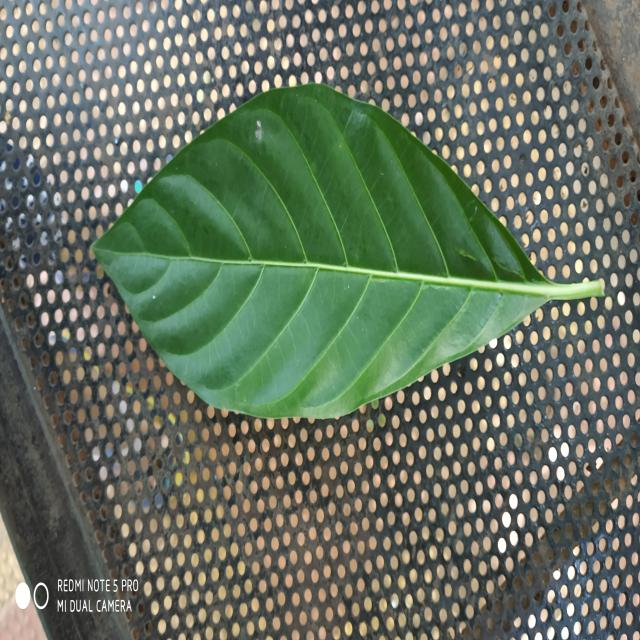nooni: (94, 84, 602, 418)
